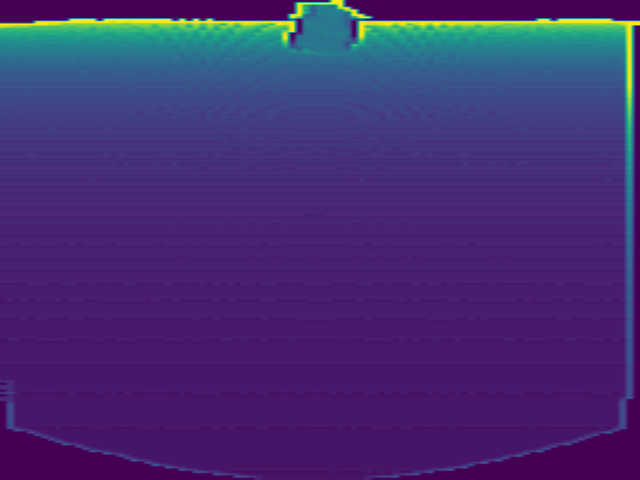car_0027: (280, 1, 371, 56)
